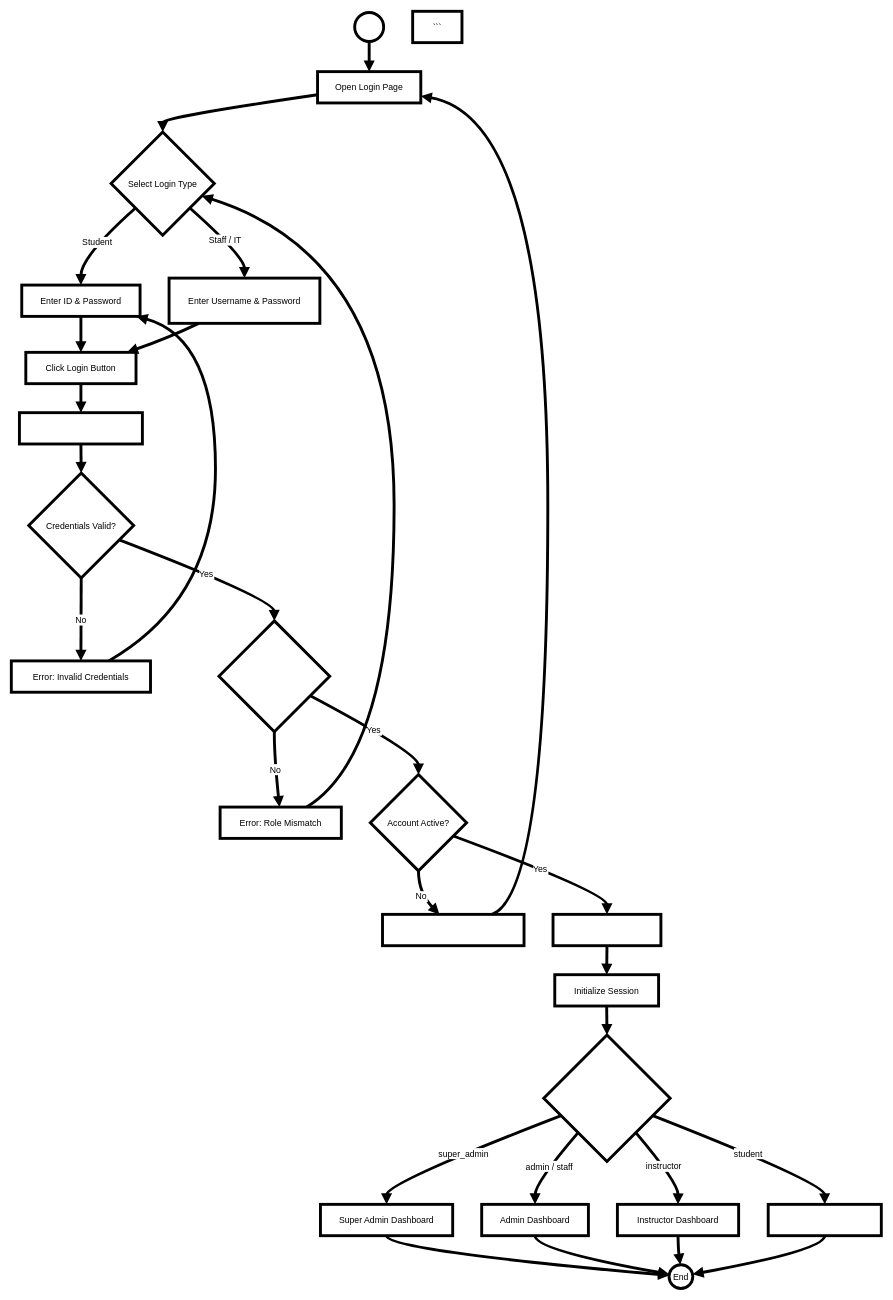
The diagram is 893 pixels wide and 1300 high, and some of its shapes have lost their labels. Here are the shapes that lost their labels. From the top down, the centre of each, then its label:
At (x=369, y=27): "Start".
At (x=81, y=428): "AuthController::login".
At (x=274, y=676): "Role Matches Type?".
At (x=453, y=930): "Error: Account Suspended".
At (x=606, y=930): "Log Login Activity".
At (x=606, y=1098): "Redirect based on Role".
At (x=824, y=1220): "Student Dashboard".
